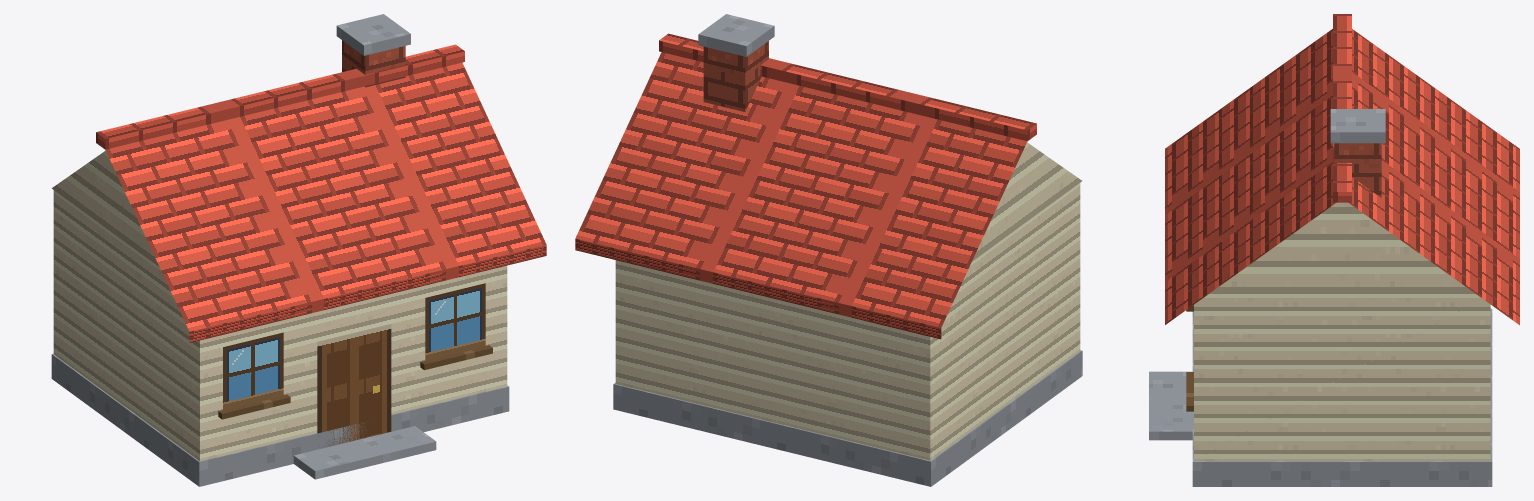
File: house_0.glb
The picture shows the model from 3 angles, left to right: view 1: azimuth 30°, elevation 25°; view 2: azimuth 150°, elevation 25°; view 3: azimuth 270°, elevation 25°; orthographic projection. The views are drawn at different scales.
Parts seen in each view (by area): view 1: house_0; view 2: house_0; view 3: house_0.
Boxes of the visible parts, x1,y1,x2,y2 form: house_0: [51, 14, 546, 486]; house_0: [575, 14, 1082, 486]; house_0: [1149, 14, 1519, 486].
Size of the model in its own units: 5.34 by 4.75 by 4.7.
Materials: 7 (7 with a texture image).
